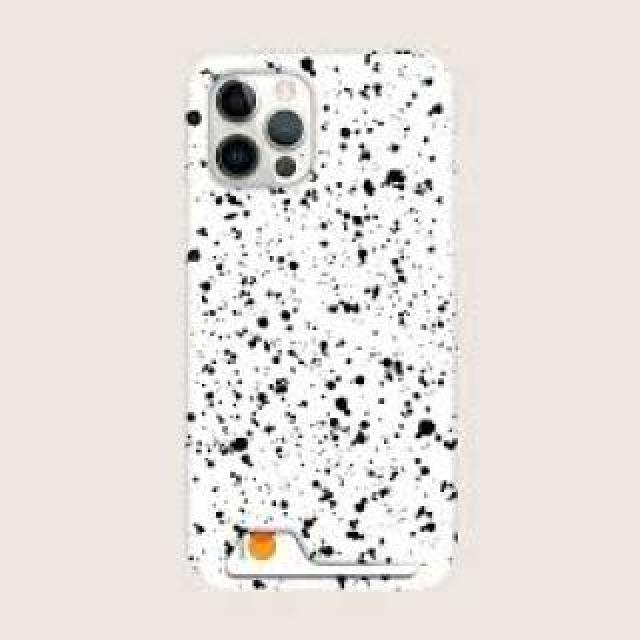smart phone: (202, 15, 455, 610)
